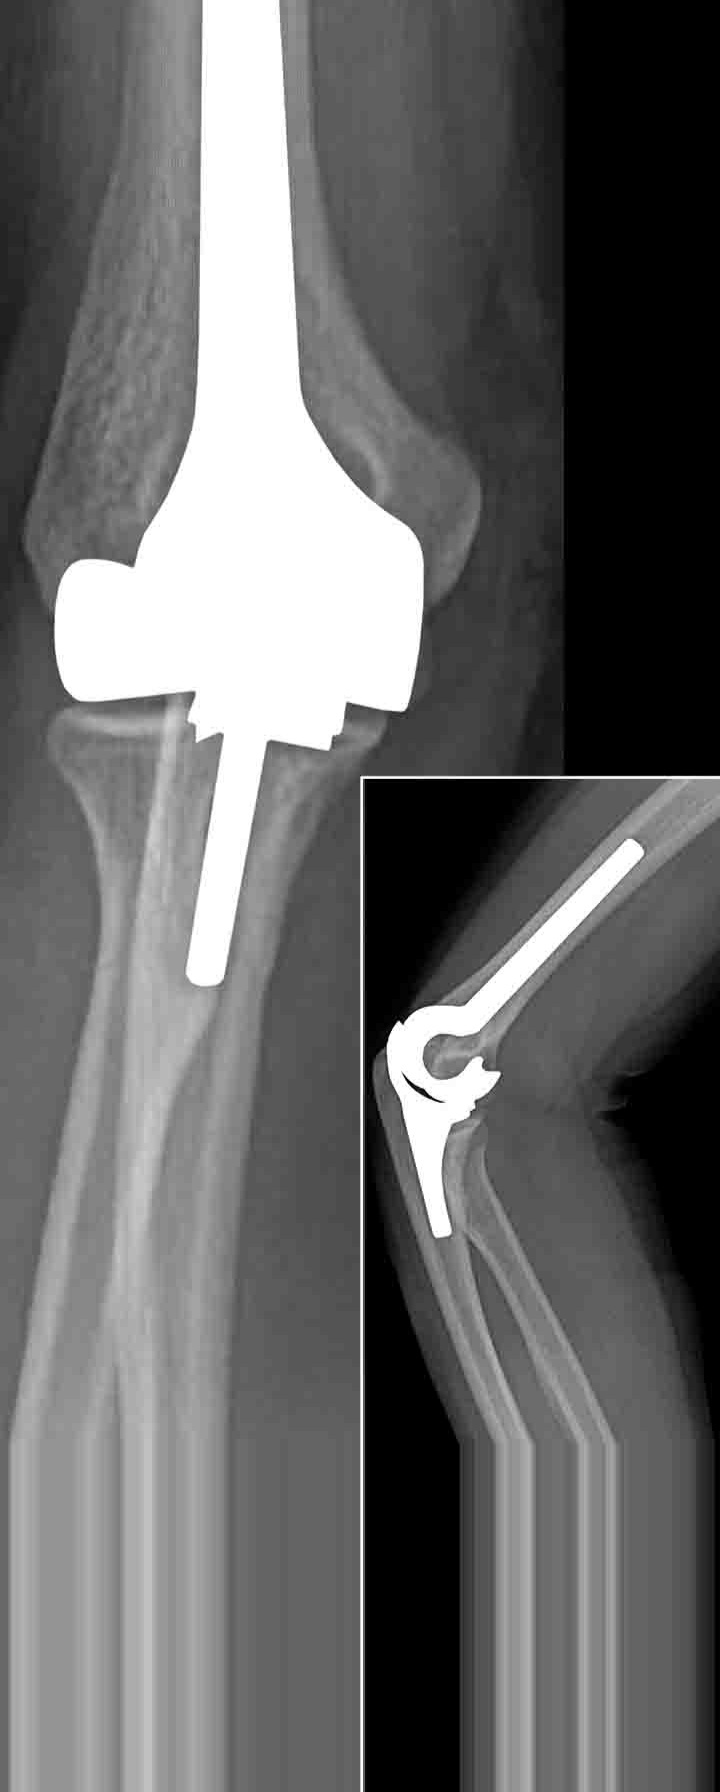Elbow - IBP - Biomet: (15, 7, 447, 998), (374, 802, 654, 1263)
